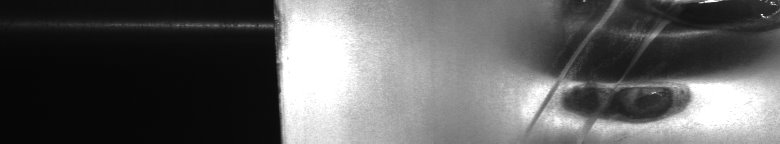ke: (532, 4, 776, 129)
